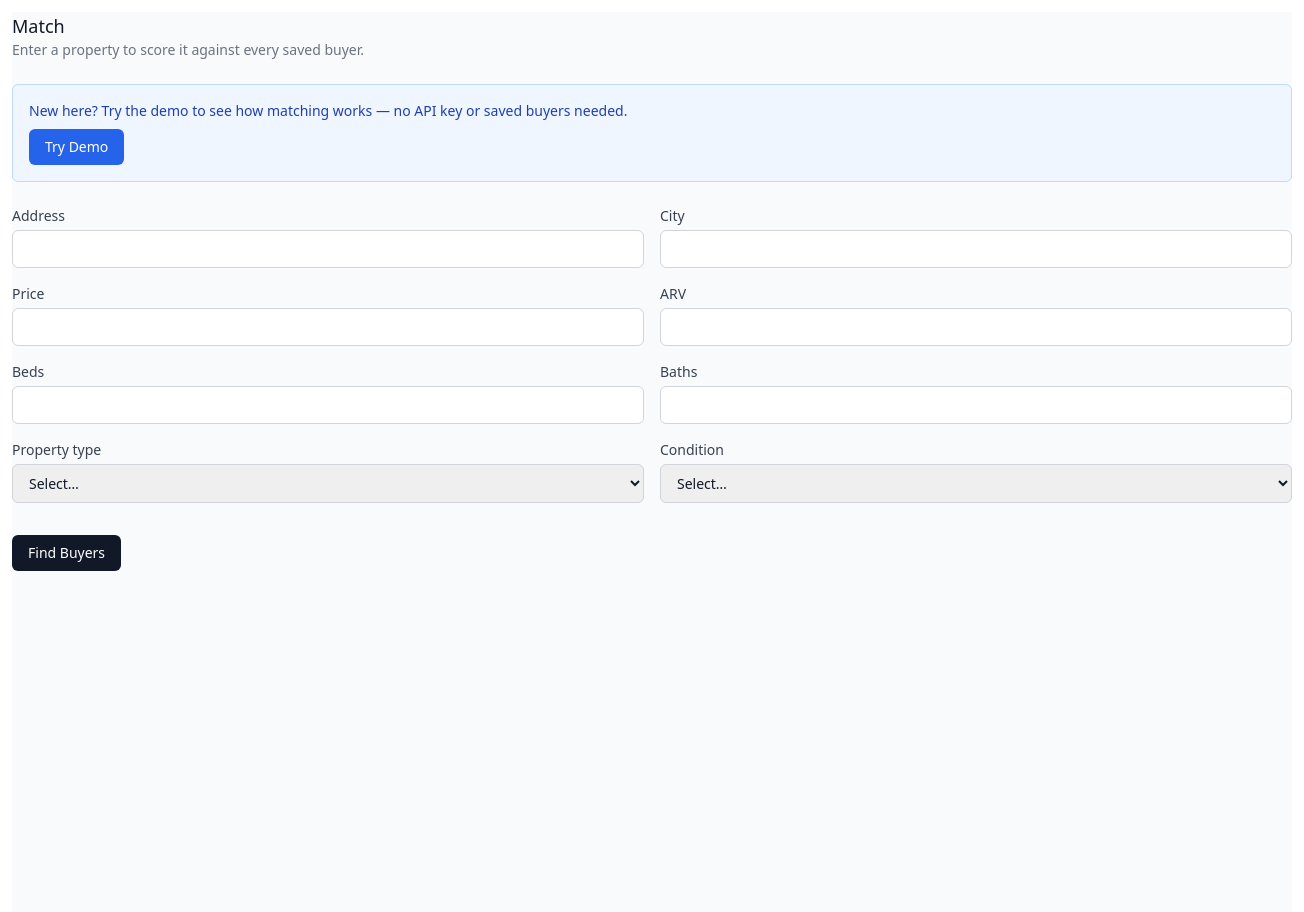
MatchPage match results (13.4) › renders matches ordered by descending score
Type "123 Main St" into the field labelled "Address" at (328, 249), box x1=12 y1=230 x2=644 y2=268
Type "Tampa" into the field labelled "City" at (976, 249), box x1=660 y1=230 x2=1292 y2=268
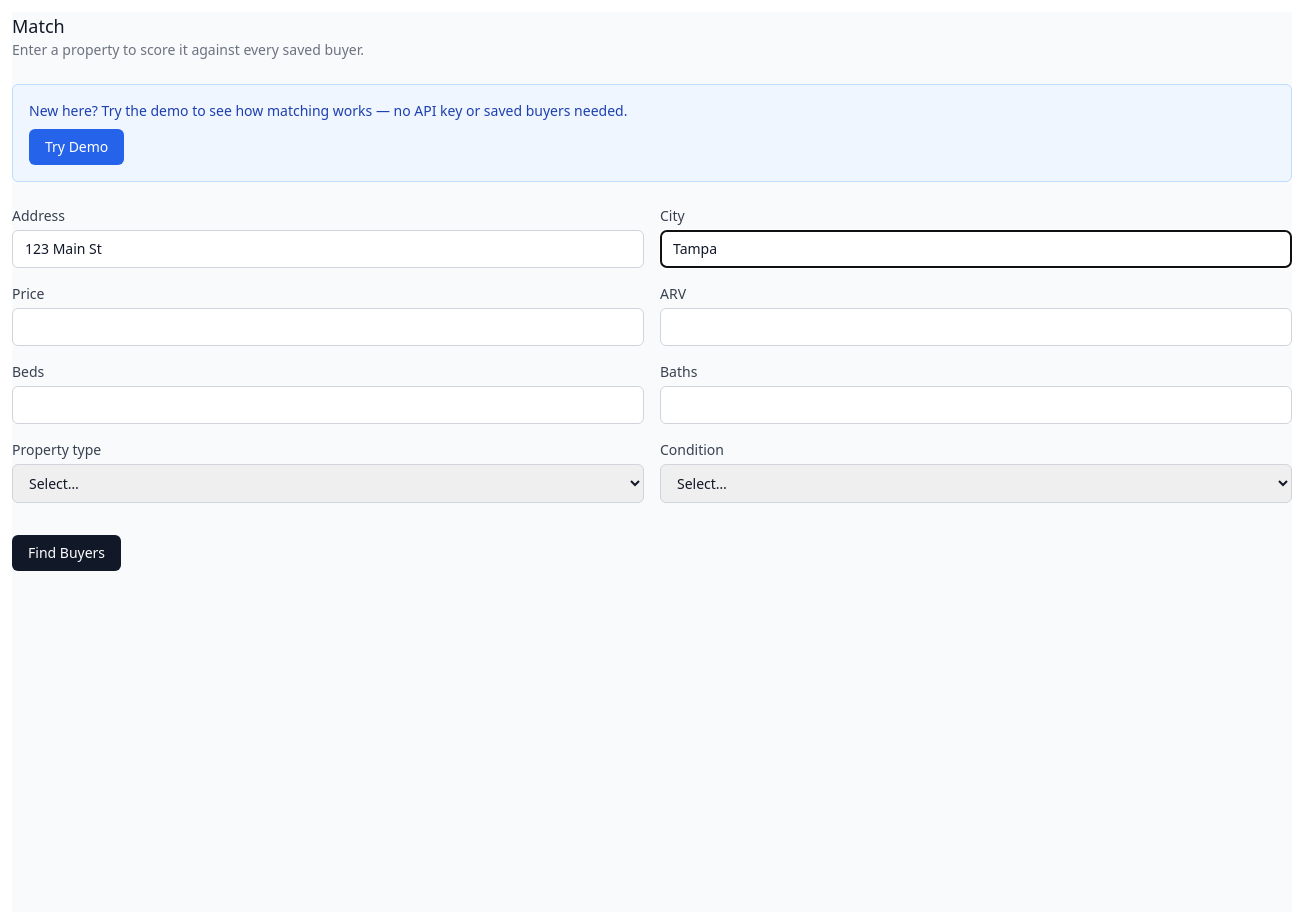
Type "150000" into the number field labelled "Price" at (328, 327), box x1=12 y1=308 x2=644 y2=346
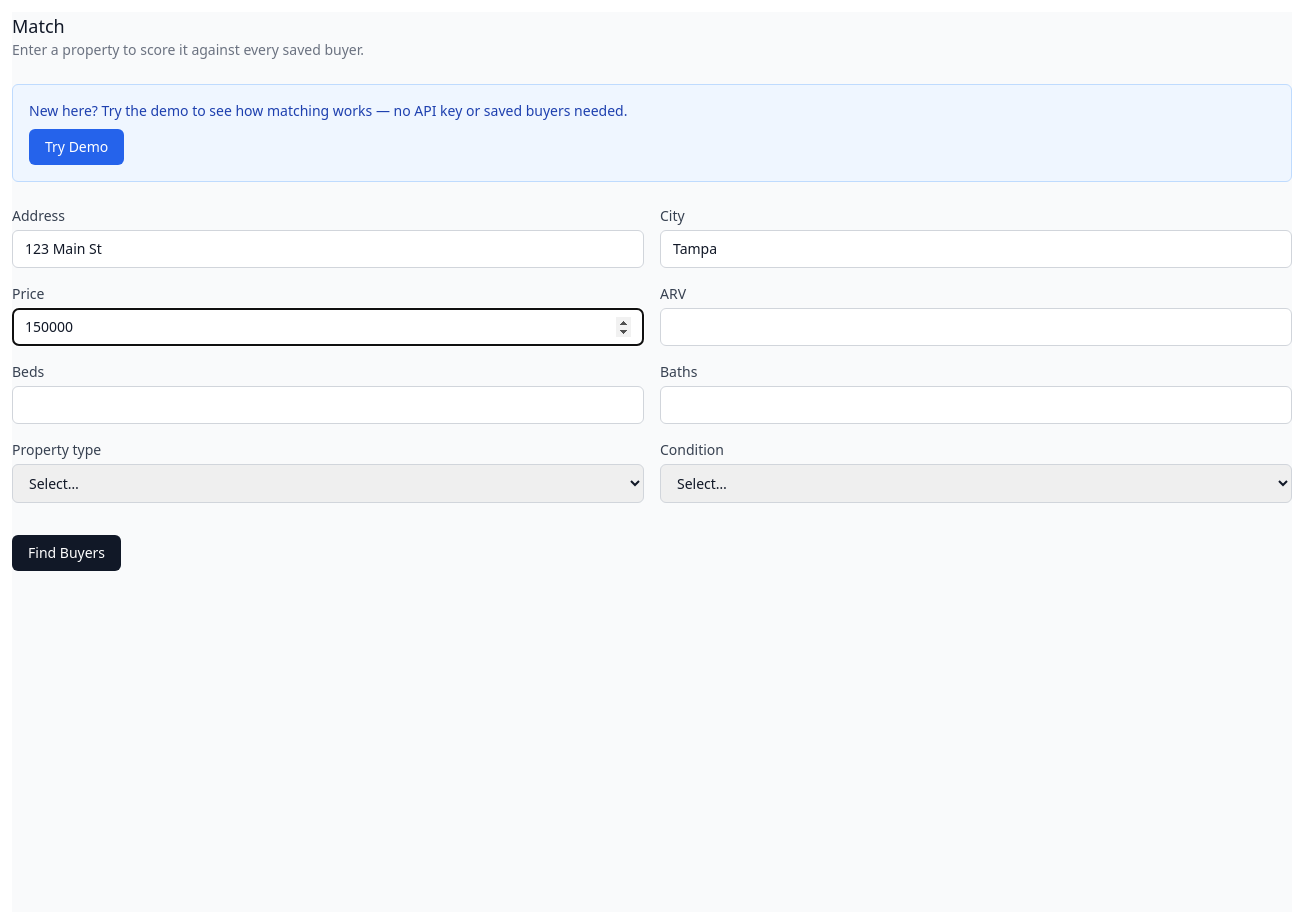
Type "200000" into the number field labelled "ARV" at (976, 327), box x1=660 y1=308 x2=1292 y2=346
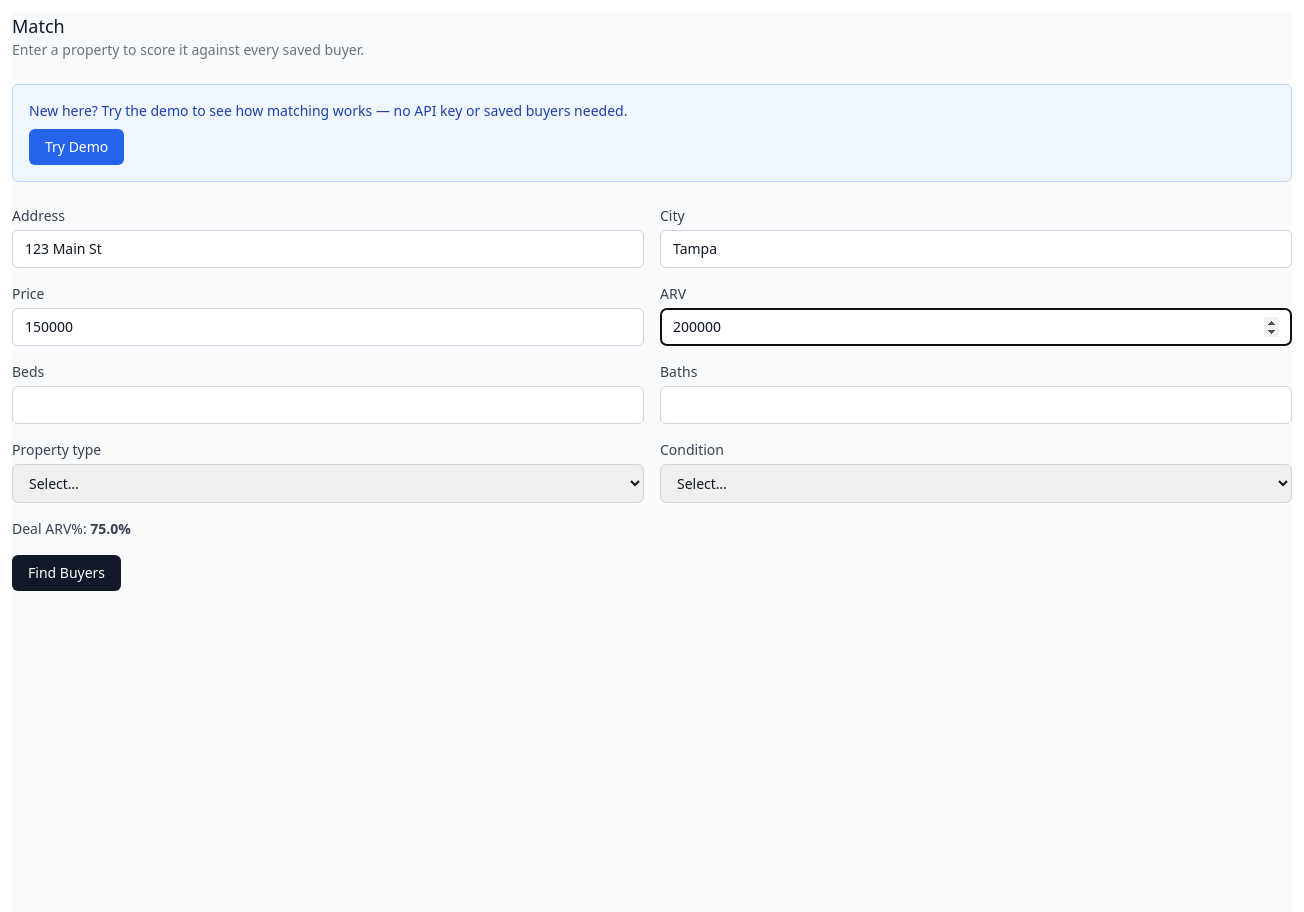
Select "Single family" in the dropdown labelled "Property type" at (328, 484), box x1=12 y1=464 x2=644 y2=503
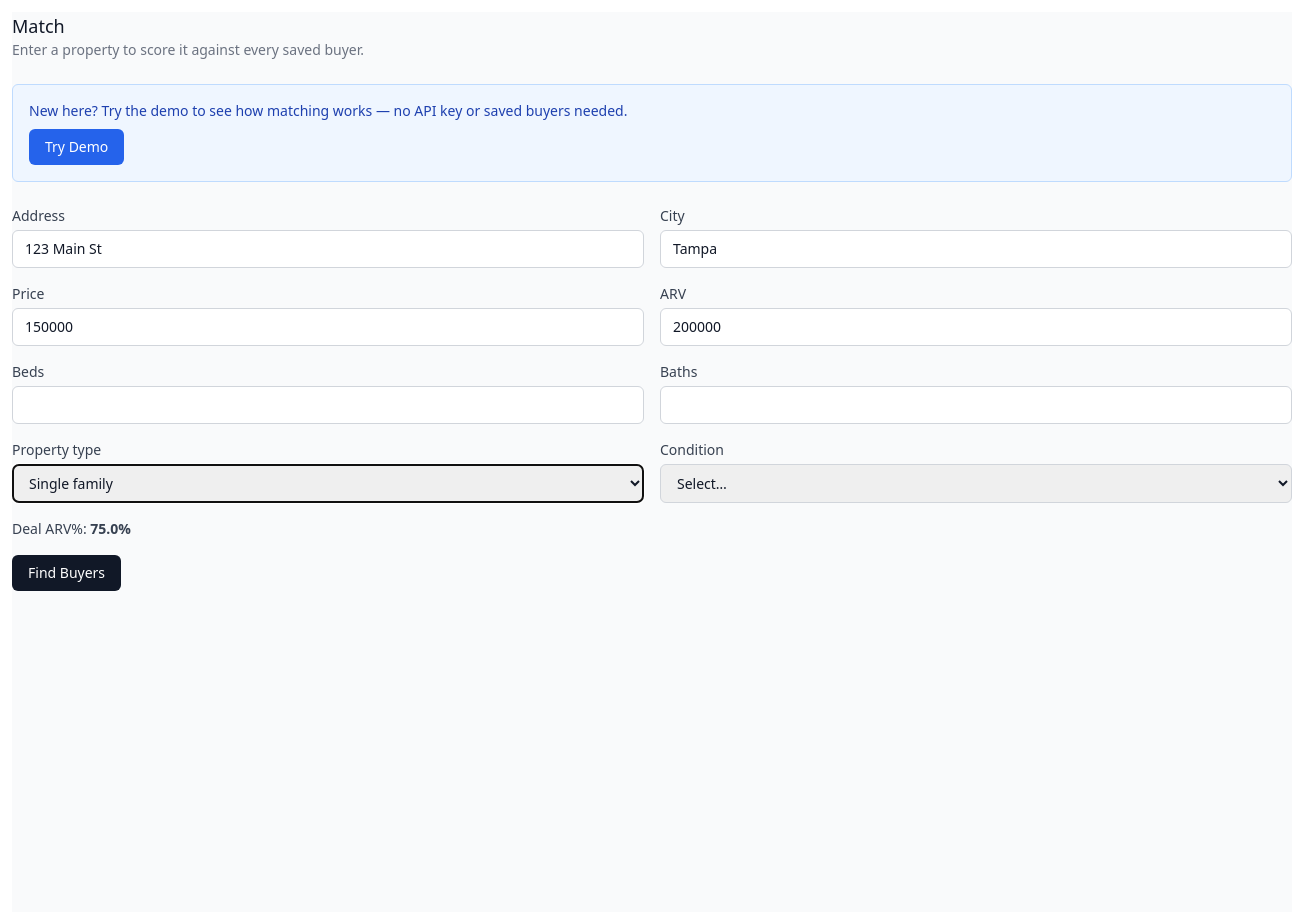
Select "Distressed" in the dropdown labelled "Condition" at (976, 484), box x1=660 y1=464 x2=1292 y2=503
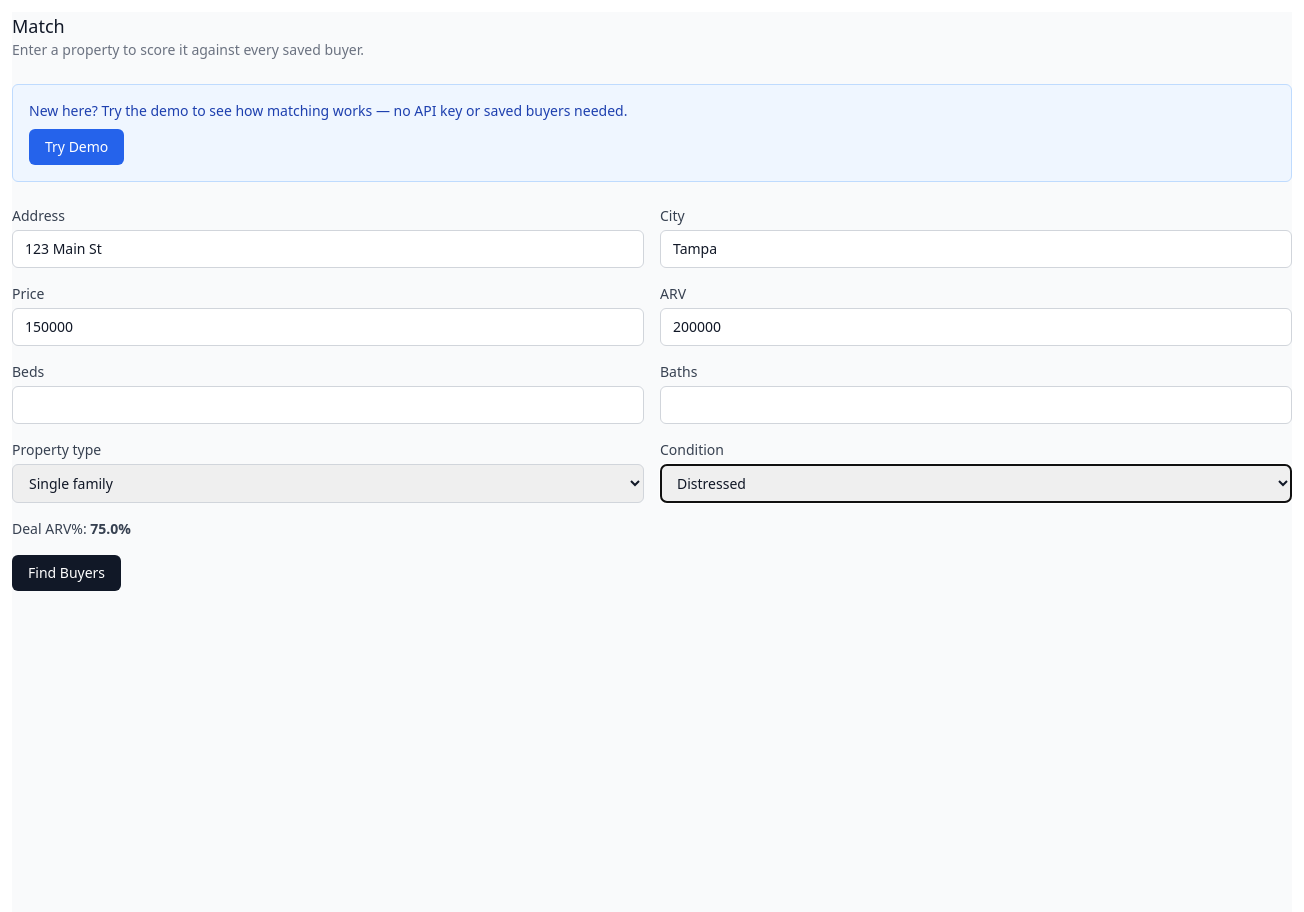
Click the button "Find Buyers" at (67, 573), box x1=12 y1=555 x2=121 y2=591
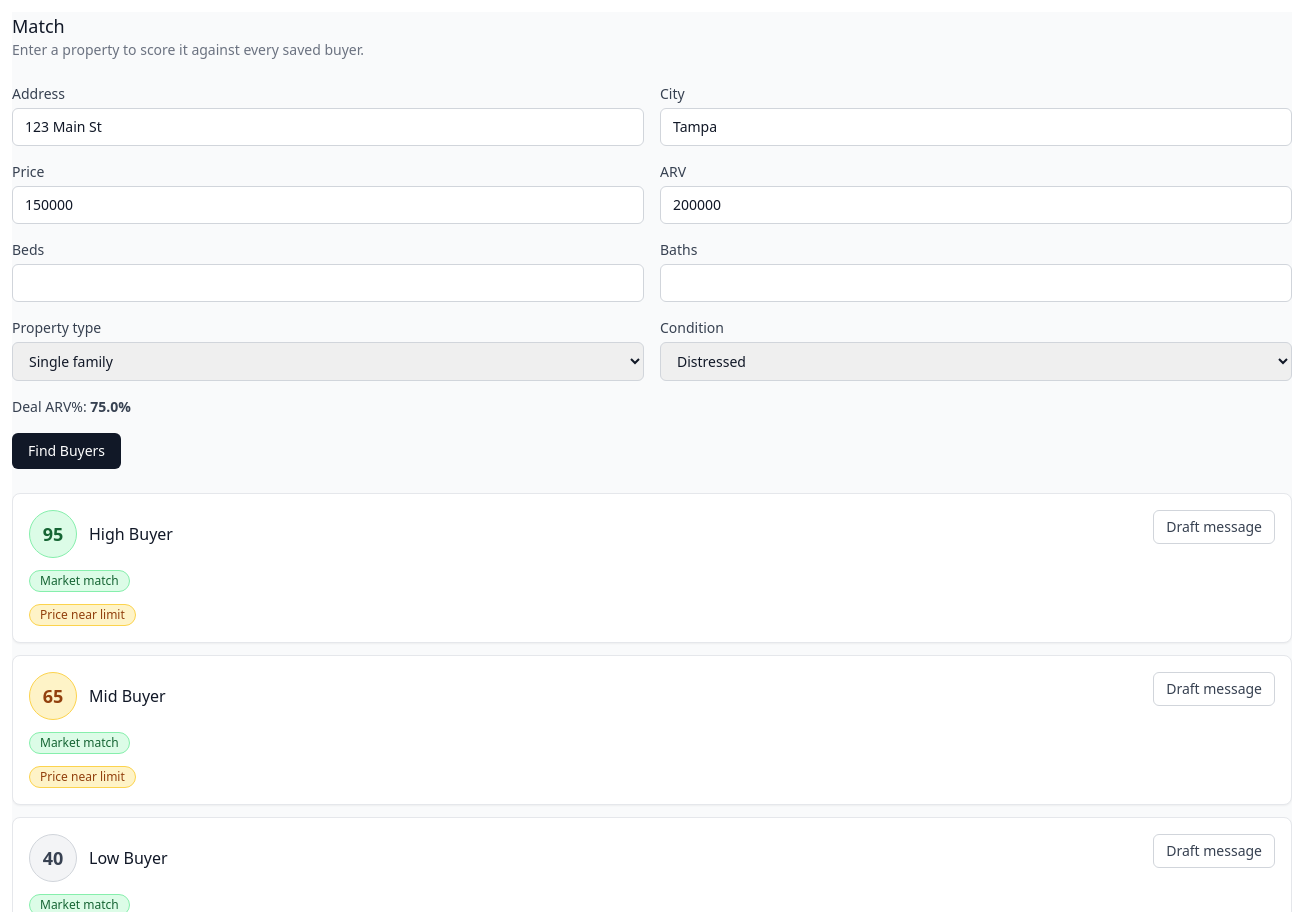
Expected: the element named "Match for High Buyer" is shown, x1=12 y1=493 x2=1292 y2=643
